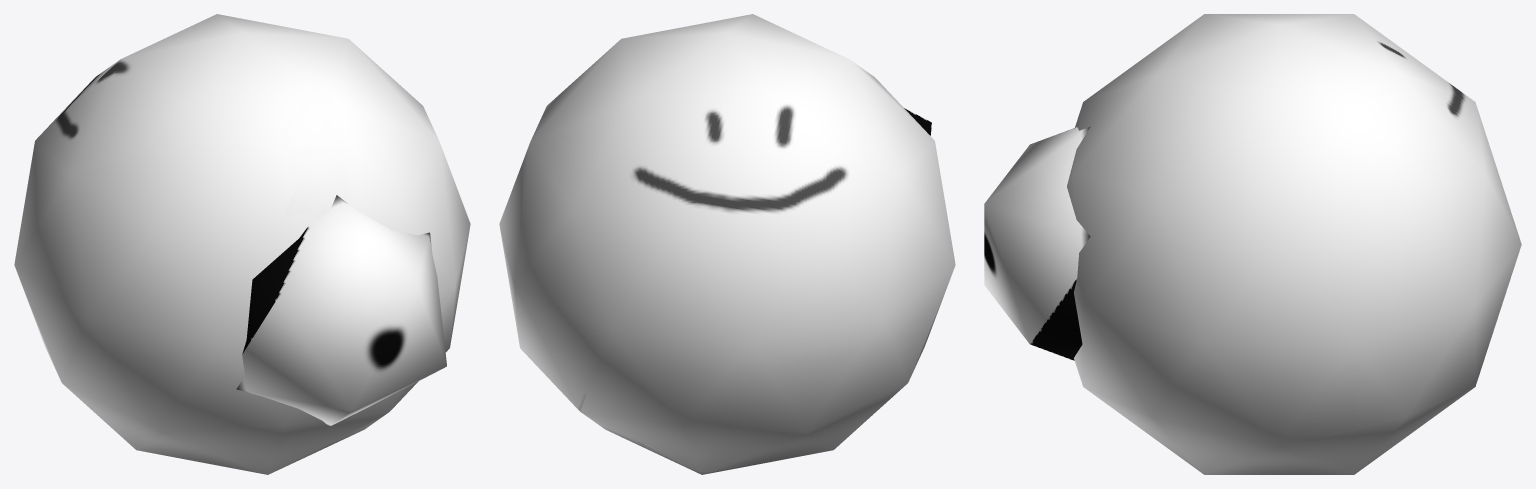
The model's file is cell.gltf.
3 renders of one model, left to right at view 1: azimuth 30°, elevation 25°; view 2: azimuth 150°, elevation 25°; view 3: azimuth 270°, elevation 25°, orthographic. The views are drawn at different scales.
Parts seen in each view (by area): view 1: cell_base, cell_eye; view 2: cell_base; view 3: cell_base, cell_eye.
Boxes of the visible parts, x1,y1,x2,y2 form: cell_base: (14, 14, 470, 474); cell_eye: (236, 195, 446, 426); cell_base: (499, 14, 955, 474); cell_base: (1067, 14, 1521, 474); cell_eye: (984, 126, 1090, 360).
Size of the model in its own units: 1.9 by 2 by 2.22.
Materials: 1 (1 with a texture image).
